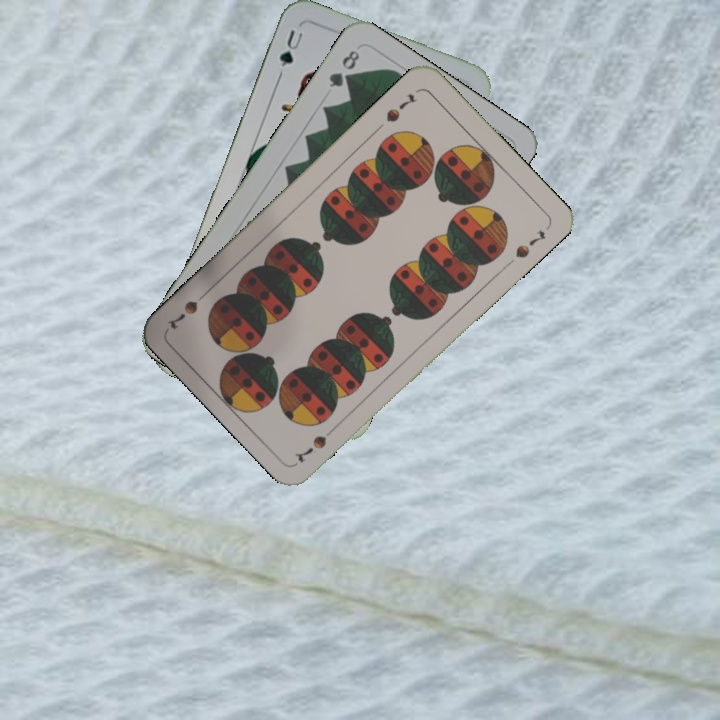G8: (325, 45, 363, 90)
GU: (275, 25, 306, 70)
S7: (290, 420, 340, 465), (381, 89, 419, 125)
